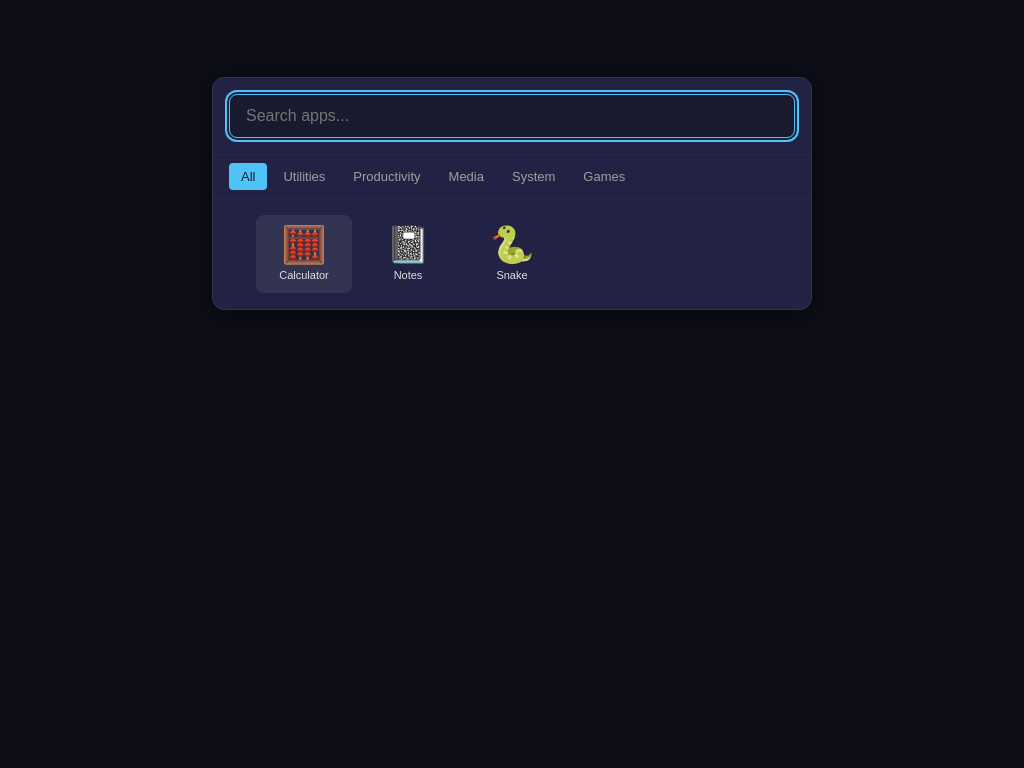
Test: AppLauncher › filters apps by search query
The image size is (1024, 768).
Type "calc" into the field with placeholder "Search apps..." at x=512, y=116, box [229, 94, 795, 138]
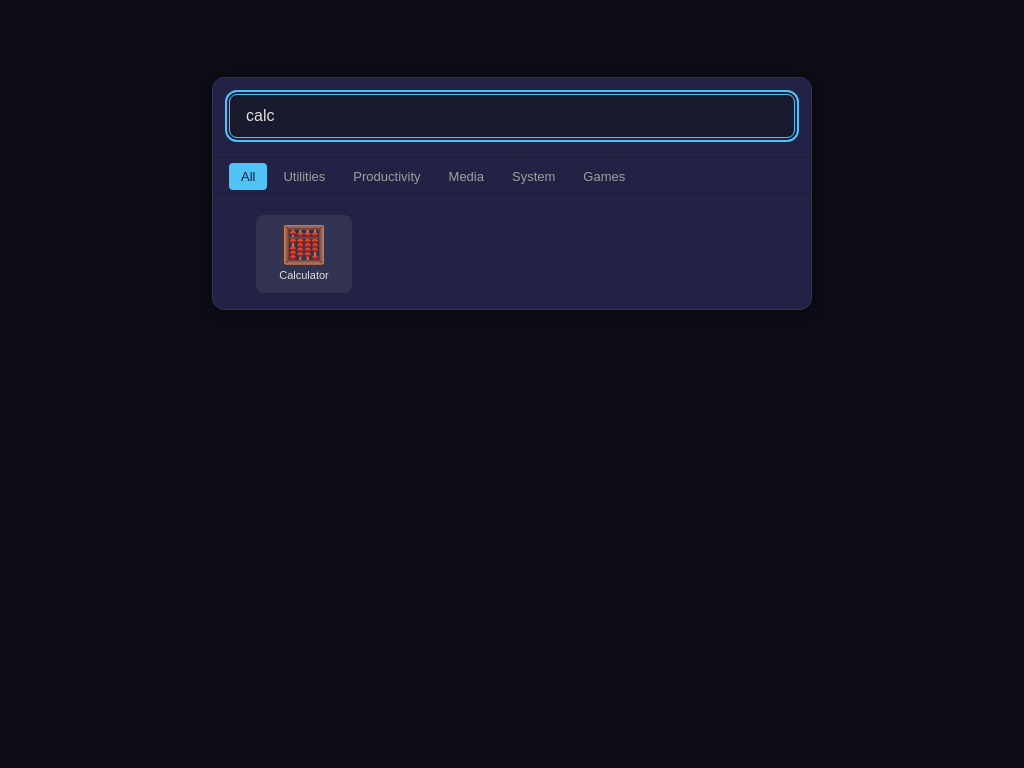
Check: the text "Calculator" is shown, box [279, 269, 329, 281]
Check: the option "Notes" is gone
Check: the option "Snake" is gone
